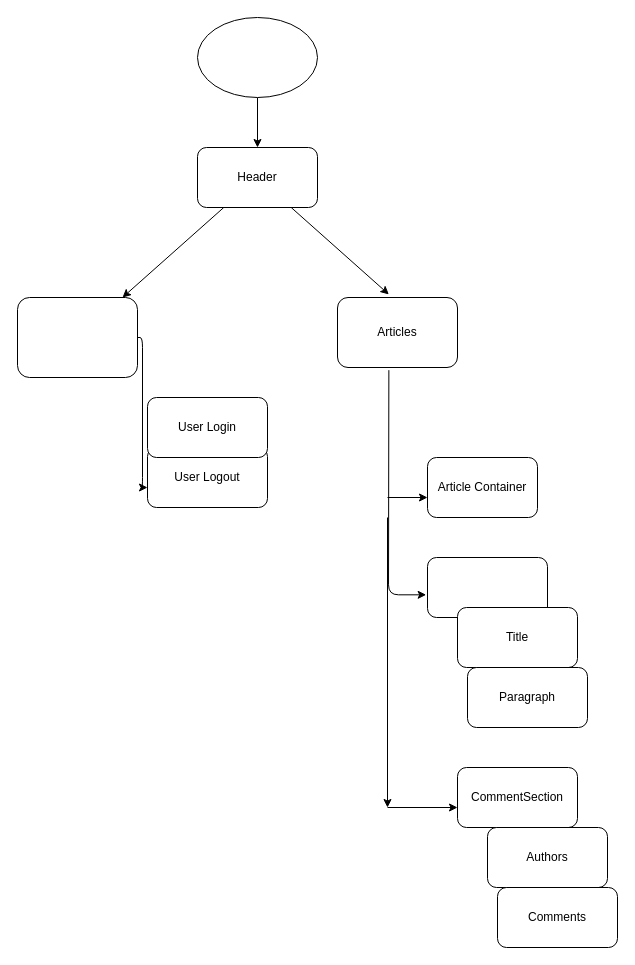
Some shapes in this 635 by 965 pixel diagram are drawn without their labels. Here are the shapes that lost their labels. From the top down, the centre of each, then its label:
At pixel 257 57: "App".
At pixel 77 337: "User Profile".
At pixel 487 587: "Article Content".
